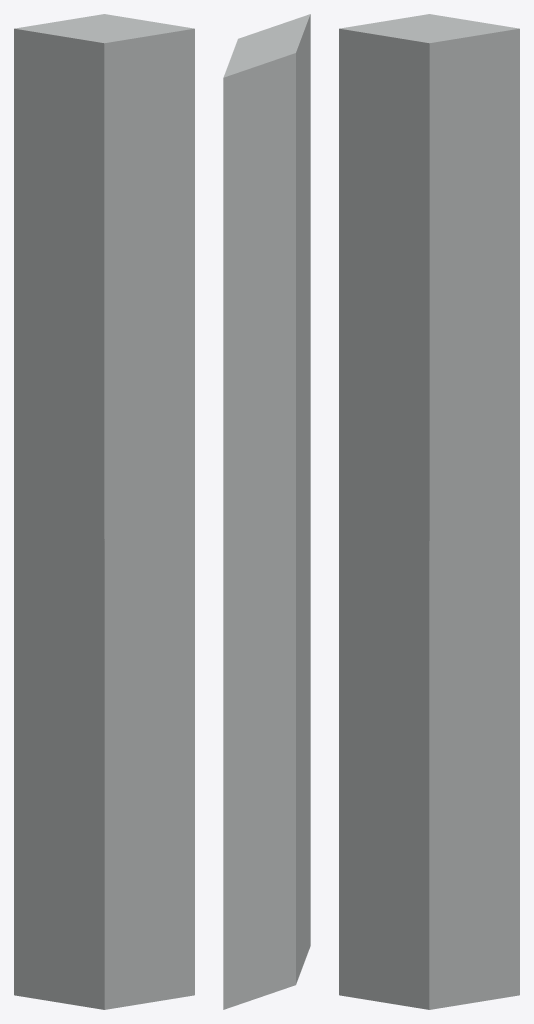
Rendered from BladePieces_2_FINAL.fbx.
3 renders of one model, left to right at view 1: azimuth 90°, elevation 25°; view 2: azimuth 150°, elevation 25°; view 3: azimuth 270°, elevation 25°, orthographic. The views are drawn at different scales.
Visible parts, largest first — view 1: polySurface6; view 2: polySurface6; view 3: polySurface6.
Boxes of the visible parts, x1,y1,x2,y2 form: polySurface6: (14,14,194,1009); polySurface6: (223,14,310,1009); polySurface6: (339,14,519,1009).
Bounding box in the file's own units: 1.21 × 18.64 × 3.16.
Materials: 1 (1 with a texture image).
